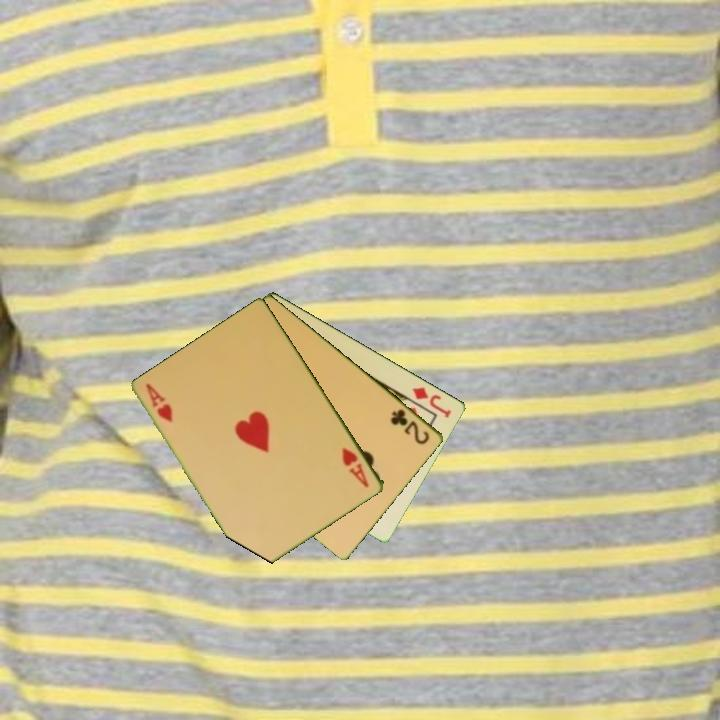2c: (387, 405, 433, 447)
Ah: (339, 444, 372, 491), (142, 380, 176, 425)
Jd: (409, 383, 455, 421)
